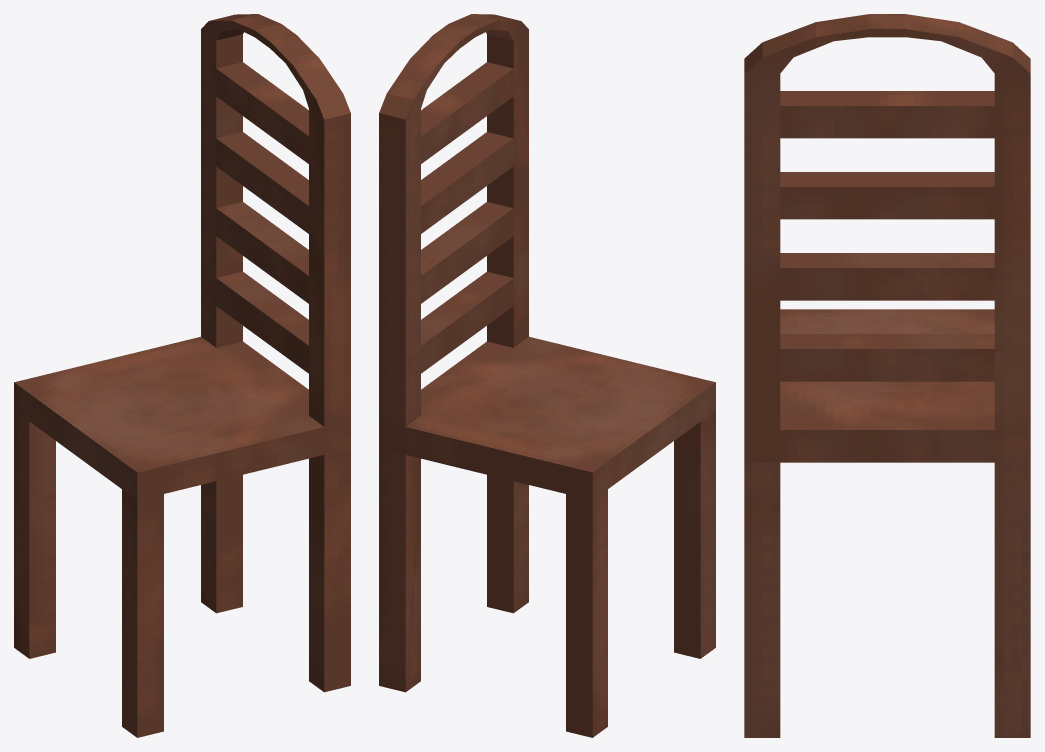
The model's file is woodenChair.gltf.
3 renders of one model, left to right at view 1: azimuth 30°, elevation 25°; view 2: azimuth 150°, elevation 25°; view 3: azimuth 270°, elevation 25°, orthographic. The views are drawn at different scales.
Parts seen in each view (by area): view 1: cuboid; view 2: cuboid; view 3: cuboid.
Boxes of the visible parts, x1,y1,x2,y2 form: cuboid: [14, 14, 350, 737]; cuboid: [379, 14, 715, 737]; cuboid: [744, 14, 1030, 737].
Size of the model in its own units: 1 by 2.73 by 1.
Materials: 1 (1 with a texture image).
